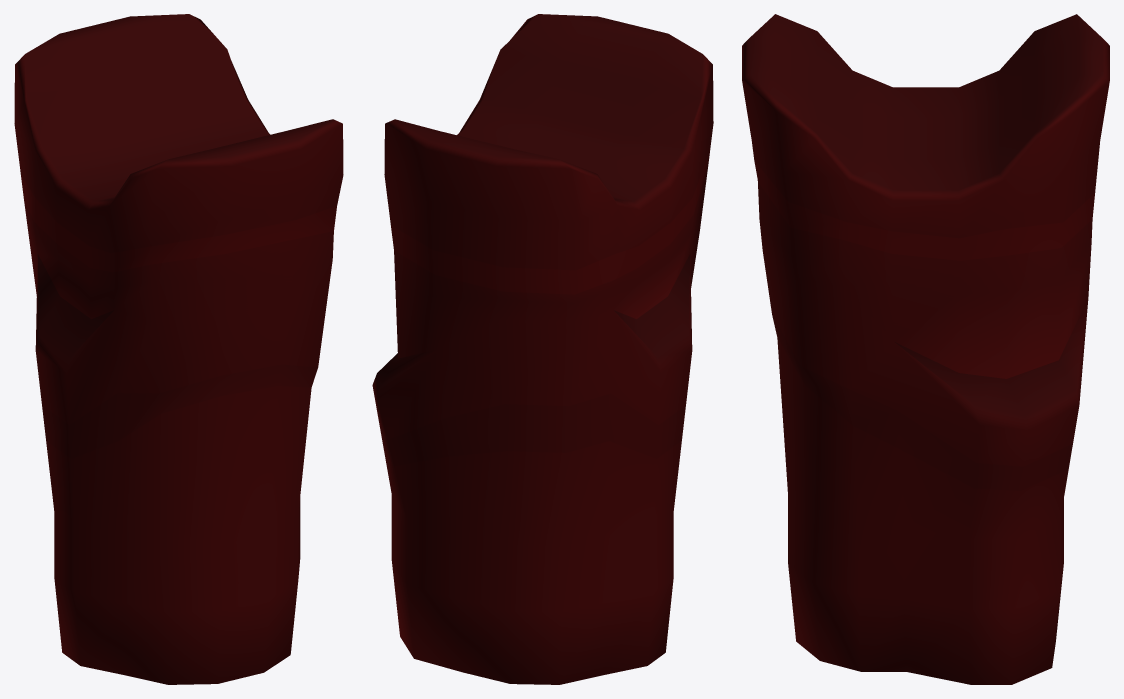
File: geology-landforms-alienpillar_v2.fbx
The picture shows the model from 3 angles, left to right: view 1: azimuth 30°, elevation 25°; view 2: azimuth 150°, elevation 25°; view 3: azimuth 270°, elevation 25°; orthographic projection. The views are drawn at different scales.
Parts seen in each view (by area): view 1: AlienPillar_v2; view 2: AlienPillar_v2; view 3: AlienPillar_v2.
Boxes of the visible parts, <box> form: AlienPillar_v2: <box>14,14,343,684</box>; AlienPillar_v2: <box>372,14,713,684</box>; AlienPillar_v2: <box>742,14,1109,684</box>.
Size of the model in its own units: 20.15 by 41.11 by 23.89.
